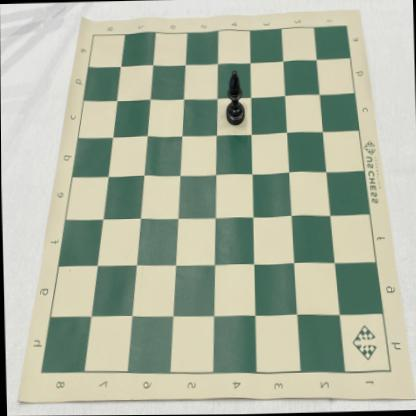black-bishop: (224, 69, 244, 126)
